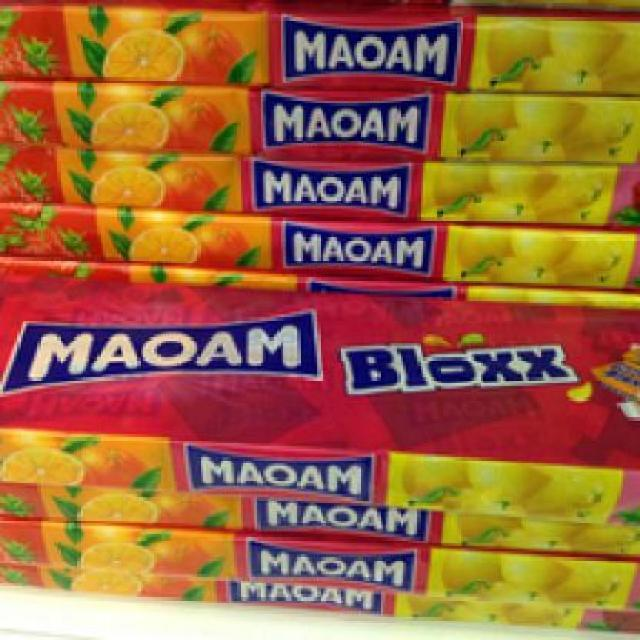Candy: (0, 284, 632, 606), (0, 0, 624, 292)
